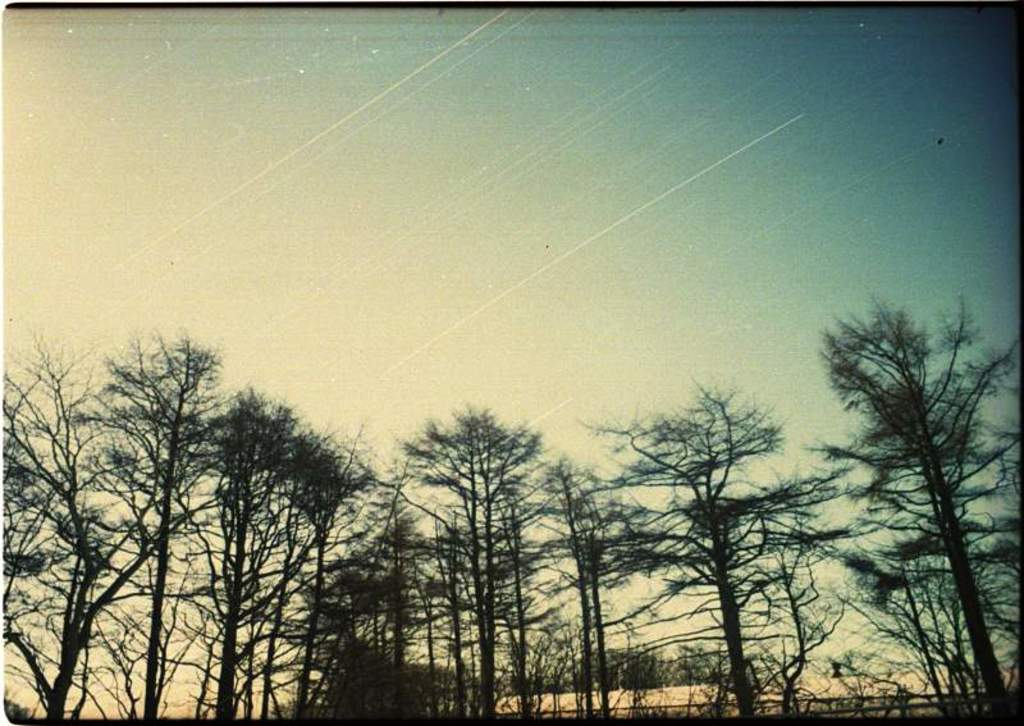Tree: (1, 327, 437, 717), (802, 277, 1022, 724), (616, 358, 830, 686), (404, 402, 546, 724), (524, 451, 669, 724), (480, 629, 787, 697), (821, 644, 915, 713)
